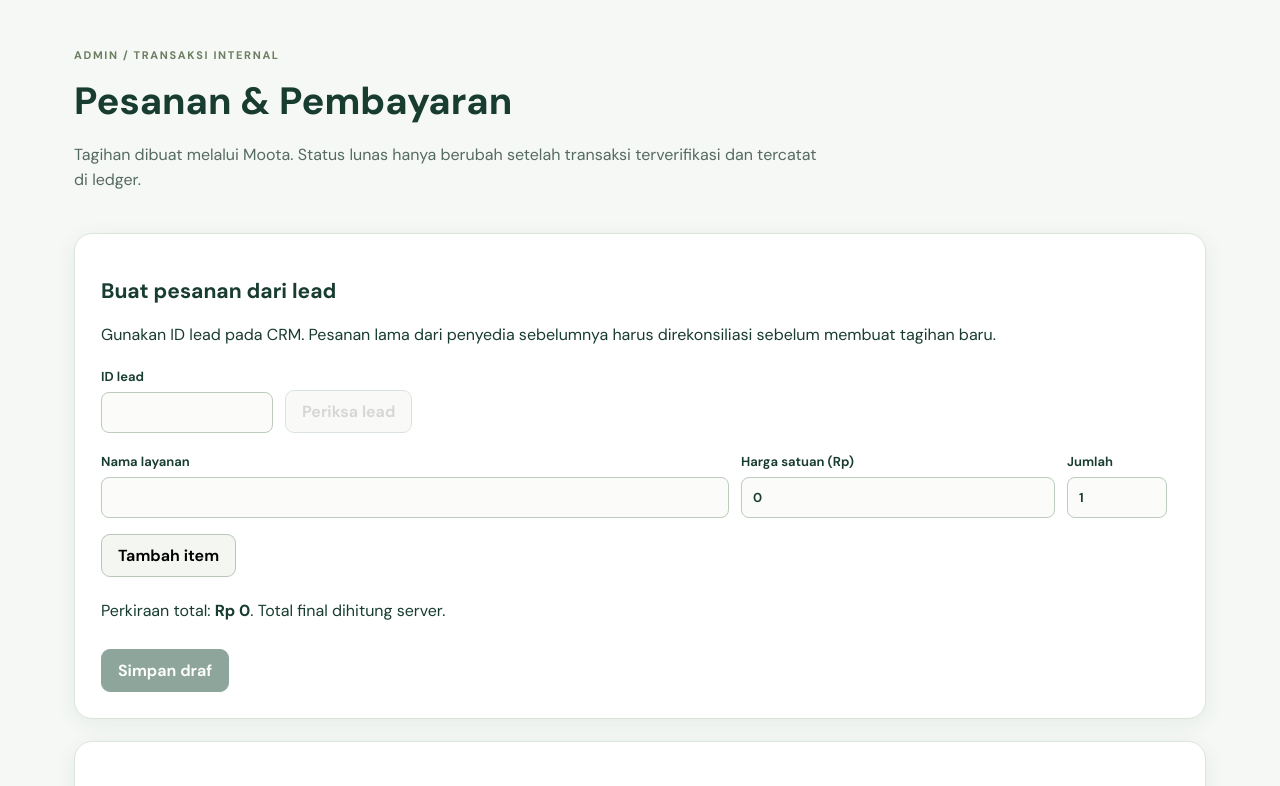
Test: shows empty orders and permits creating a draft from an explicit lead
Type "1" into the number field labelled "ID lead". click: (187, 413)
box: [101,392,273,433]
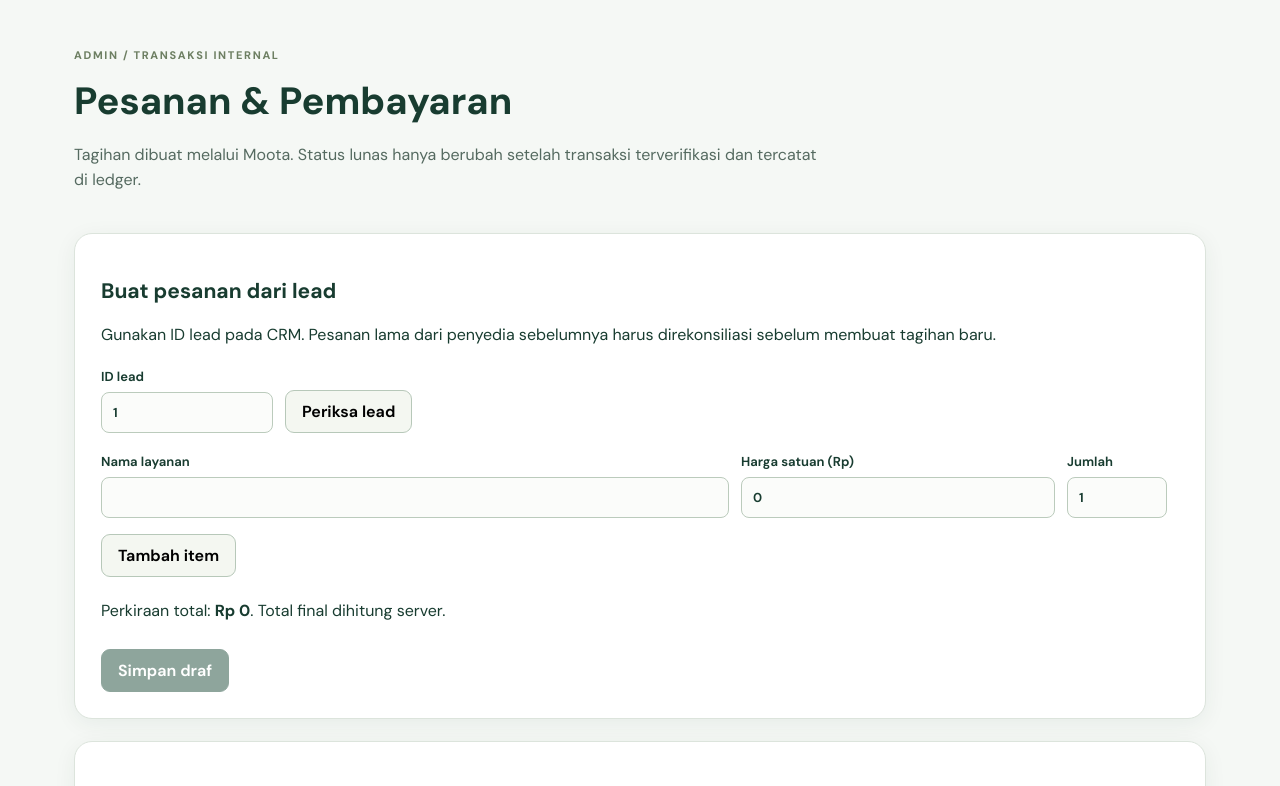
Click the button "Periksa lead". click: (349, 412)
box: [285,390,412,433]
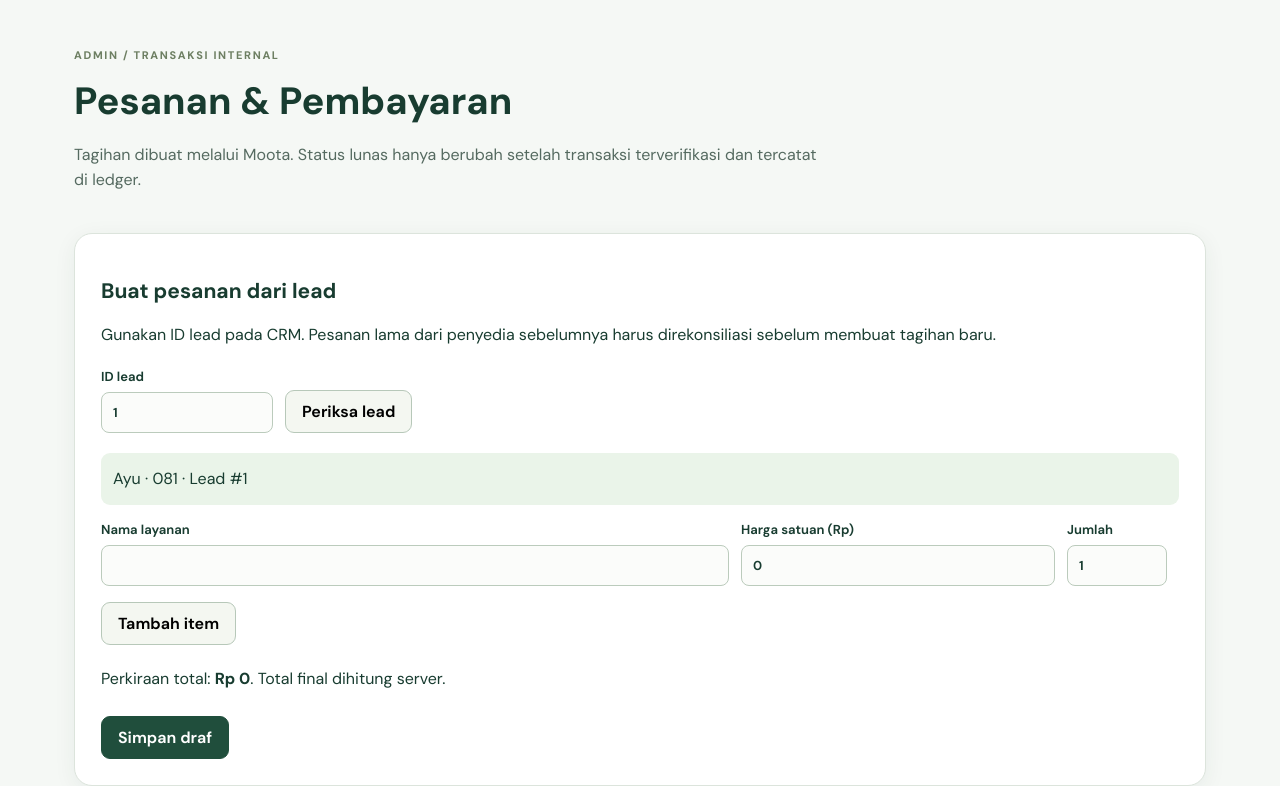
Result: the text "Ayu · 081 · Lead #1" is shown at [101,453,1179,505]
Result: the button "Simpan draf" is enabled at [101,716,229,759]
